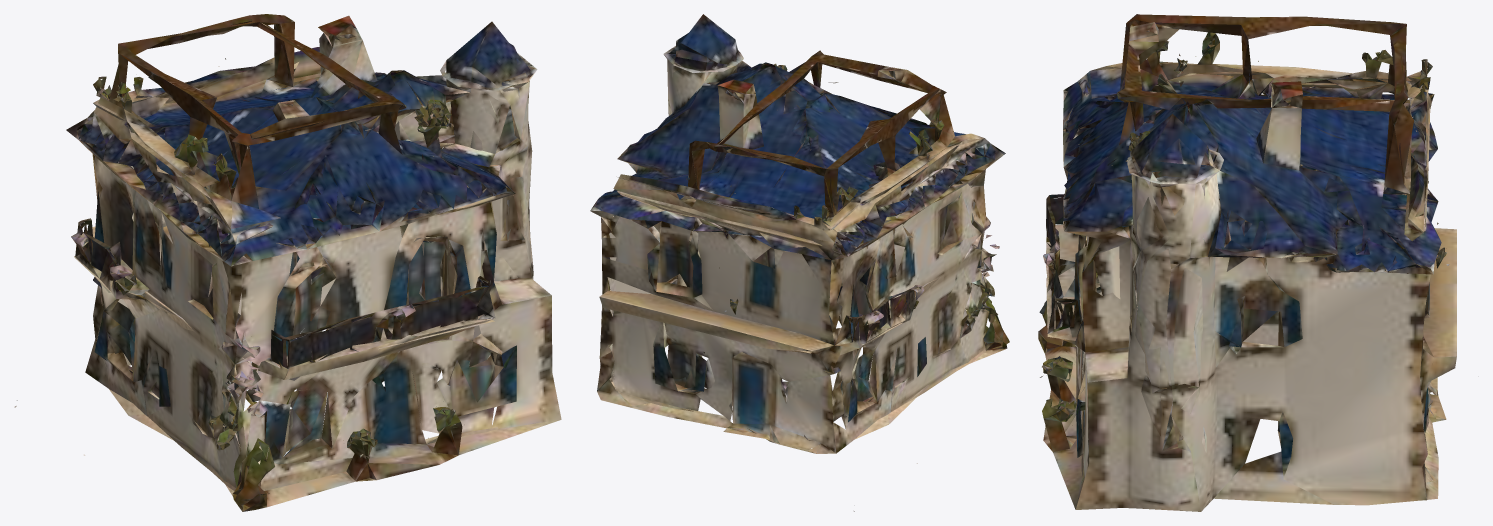
Rendered from candidate.glb.
The picture shows the model from 3 angles, left to right: view 1: azimuth 30°, elevation 25°; view 2: azimuth 150°, elevation 25°; view 3: azimuth 270°, elevation 25°; orthographic projection. The views are drawn at different scales.
Visible parts, largest first — view 1: harbor__tower_2__neural_lod; view 2: harbor__tower_2__neural_lod; view 3: harbor__tower_2__neural_lod.
Part boxes in pixels (box(x1,y1,x2,y2)): harbor__tower_2__neural_lod: box(14, 14, 561, 511); harbor__tower_2__neural_lod: box(590, 14, 1009, 511); harbor__tower_2__neural_lod: box(1038, 14, 1456, 511).
Size of the model in its own units: 0.8819 by 0.9382 by 0.8711.
Materials: 1 (1 with a texture image).
